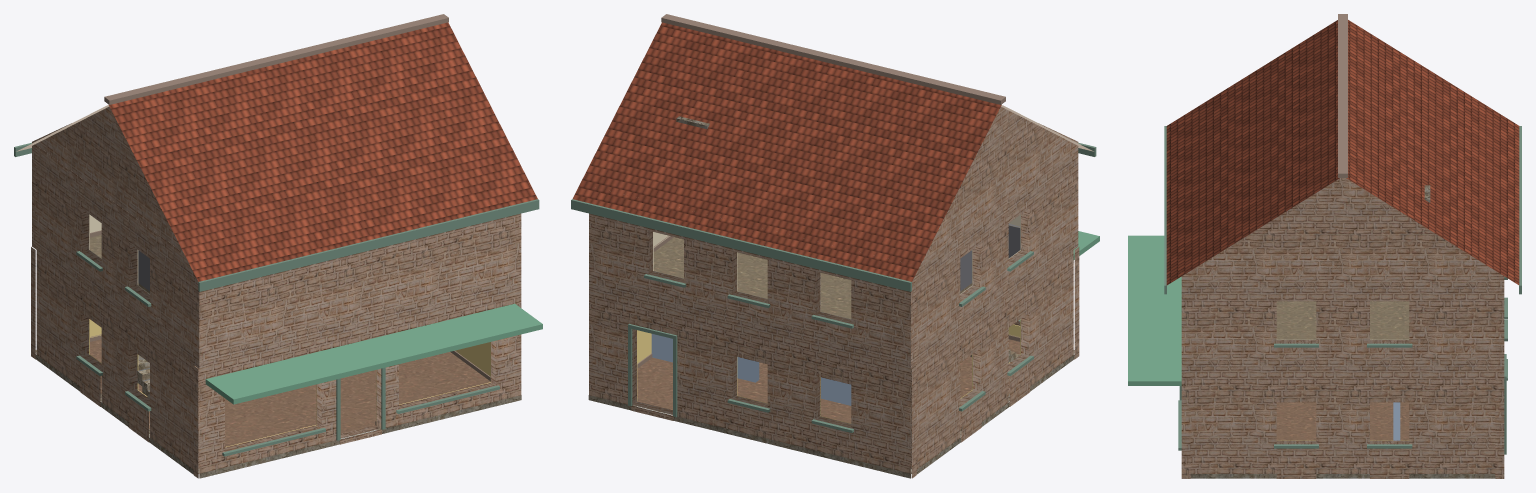
Rendered from village-store.reveal-v1.lod0.glb.
3 views of the same model, side by side, from view 1: azimuth 30°, elevation 25°; view 2: azimuth 150°, elevation 25°; view 3: azimuth 270°, elevation 25° (orthographic). The views are drawn at different scales.
Visible parts, largest first — view 1: village-store; view 2: village-store; view 3: village-store.
Boxes of the visible parts, x1,y1,x2,y2 form: village-store: (14,14,542,478); village-store: (571,14,1099,478); village-store: (1128,14,1521,478).
Bounding box in the file's own units: 10.54 × 9.52 × 10.99.
5 materials, 4 textured.
